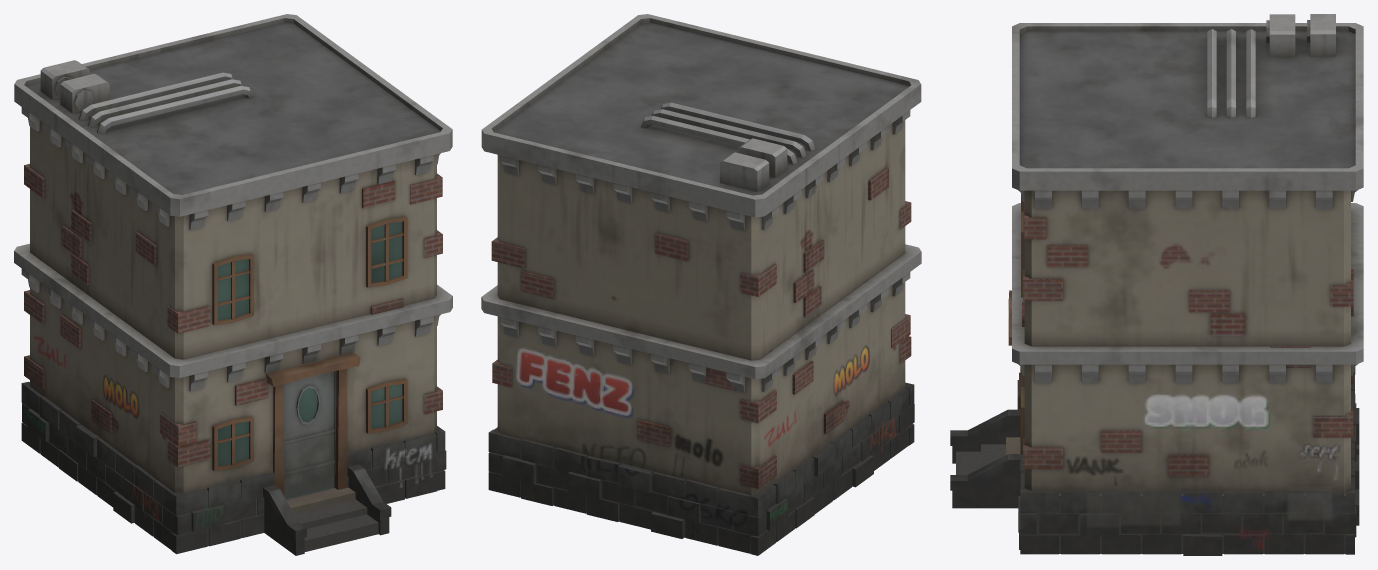
Rendered from building_2Story_Stairs.glb.
The picture shows the model from 3 angles, left to right: view 1: azimuth 30°, elevation 25°; view 2: azimuth 150°, elevation 25°; view 3: azimuth 270°, elevation 25°; orthographic projection. The views are drawn at different scales.
Parts seen in each view (by area): view 1: 2Story_Stairs_low; view 2: 2Story_Stairs_low; view 3: 2Story_Stairs_low.
Boxes of the visible parts, x1,y1,x2,y2 form: 2Story_Stairs_low: [14, 14, 452, 555]; 2Story_Stairs_low: [481, 14, 921, 555]; 2Story_Stairs_low: [950, 14, 1363, 555].
Size of the model in its own units: 2.16 by 2.75 by 2.53.
Materials: 2 (2 with a texture image).
